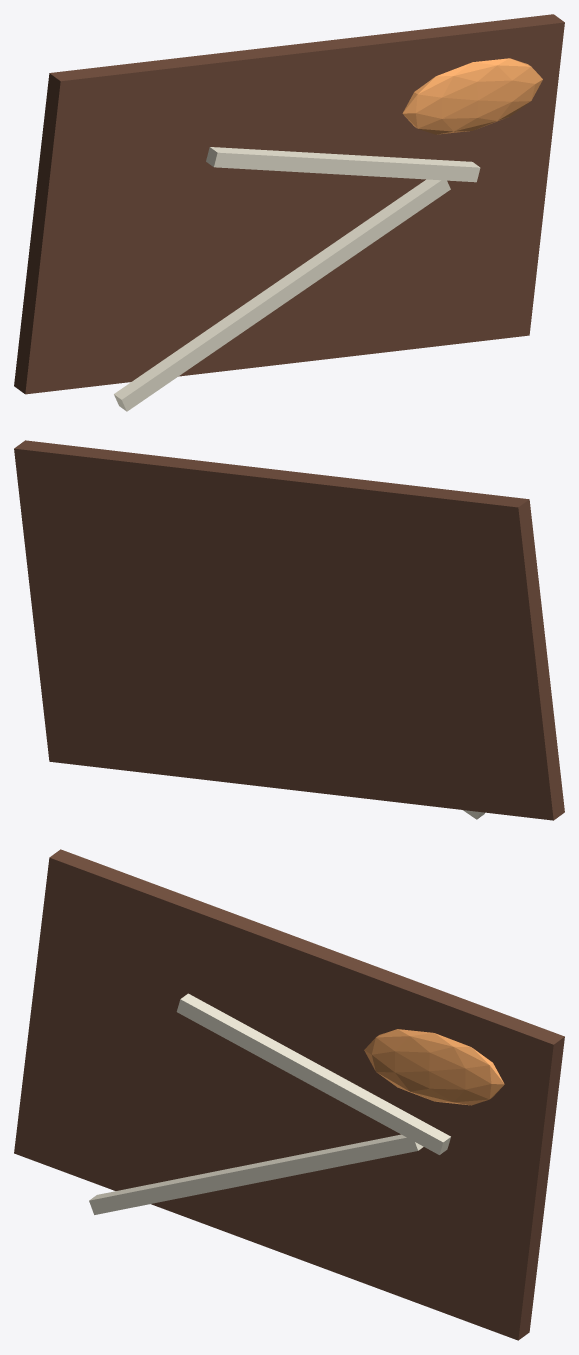
The model's file is 02_weathering_wear_overlay_2.glb.
3 views of the same model, one above another, from view 1: azimuth 30°, elevation 25°; view 2: azimuth 150°, elevation 25°; view 3: azimuth 330°, elevation 25° (orthographic).
Parts seen in each view (by area): view 1: wear_plate, scratch_a, rust_or_moss_spot, scratch_b; view 2: wear_plate; view 3: wear_plate, rust_or_moss_spot, scratch_b, scratch_a.
Boxes of the visible parts, box(x1,y1,x2,y2) form: wear_plate: box(14, 14, 564, 394); scratch_a: box(114, 179, 450, 411); rust_or_moss_spot: box(402, 58, 542, 134); scratch_b: box(206, 147, 480, 182); wear_plate: box(14, 440, 564, 820); wear_plate: box(14, 849, 564, 1340); rust_or_moss_spot: box(364, 1029, 504, 1105); scratch_b: box(176, 993, 450, 1154); scratch_a: box(89, 1134, 423, 1214).
Size of the model in its own units: 1.38 by 0.9014 by 0.134.
